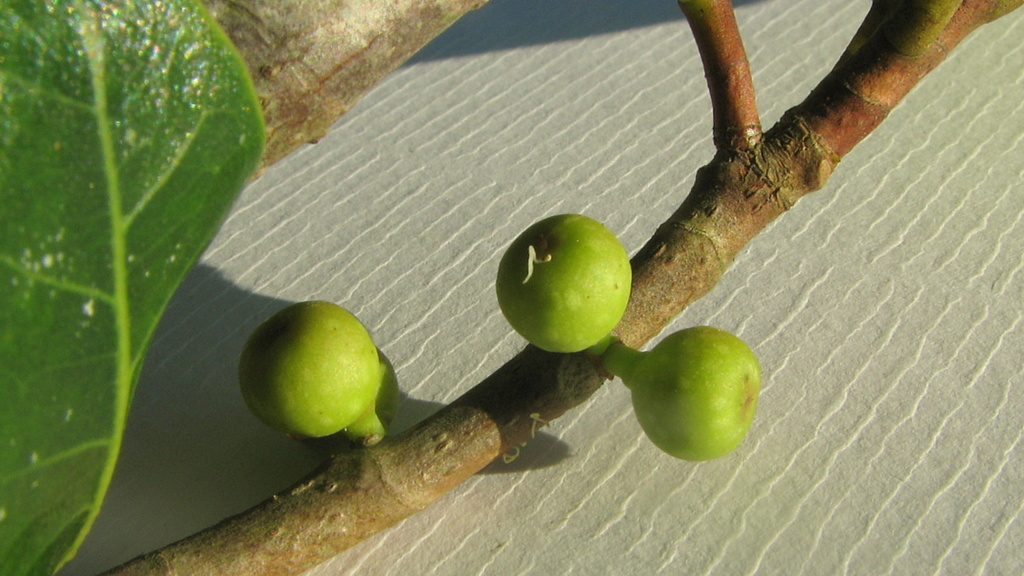Apple: (498, 210, 635, 346)
